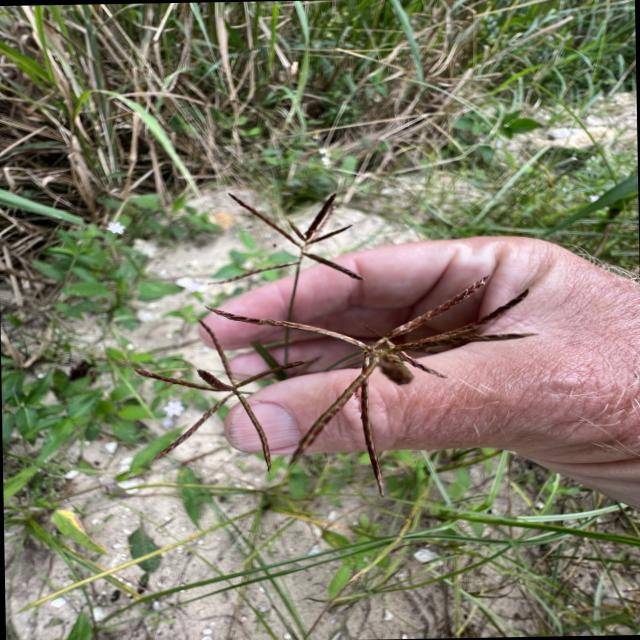cyperus: (142, 176, 531, 478)
